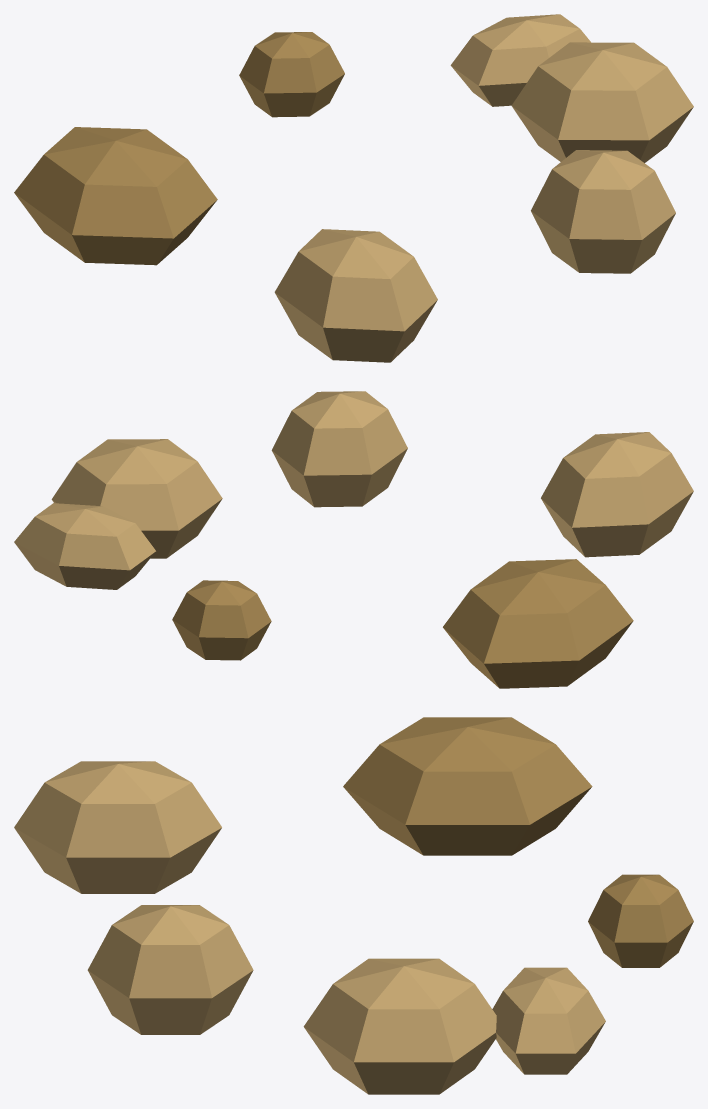
The model's file is loose_stones_sandstone.glb.
3 renders of one model, top to bottom at view 1: azimuth 30°, elevation 25°; view 2: azimuth 150°, elevation 25°; view 3: azimuth 270°, elevation 25°, orthographic. The views are drawn at different scales.
Parts seen in each view (by area): view 1: scatter_rocks_sandstone_small; view 2: scatter_rocks_sandstone_small; view 3: scatter_rocks_sandstone_small.
Part boxes in pixels (box(x1,y1,x2,y2)): scatter_rocks_sandstone_small: box(14, 14, 693, 362); scatter_rocks_sandstone_small: box(14, 391, 693, 688); scatter_rocks_sandstone_small: box(14, 717, 693, 1094).
Bounding box in the file's own units: 2.24 × 0.4252 × 2.05.
